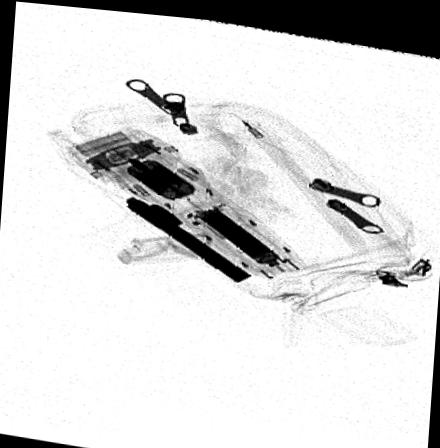Gun: (124, 191, 258, 278)
